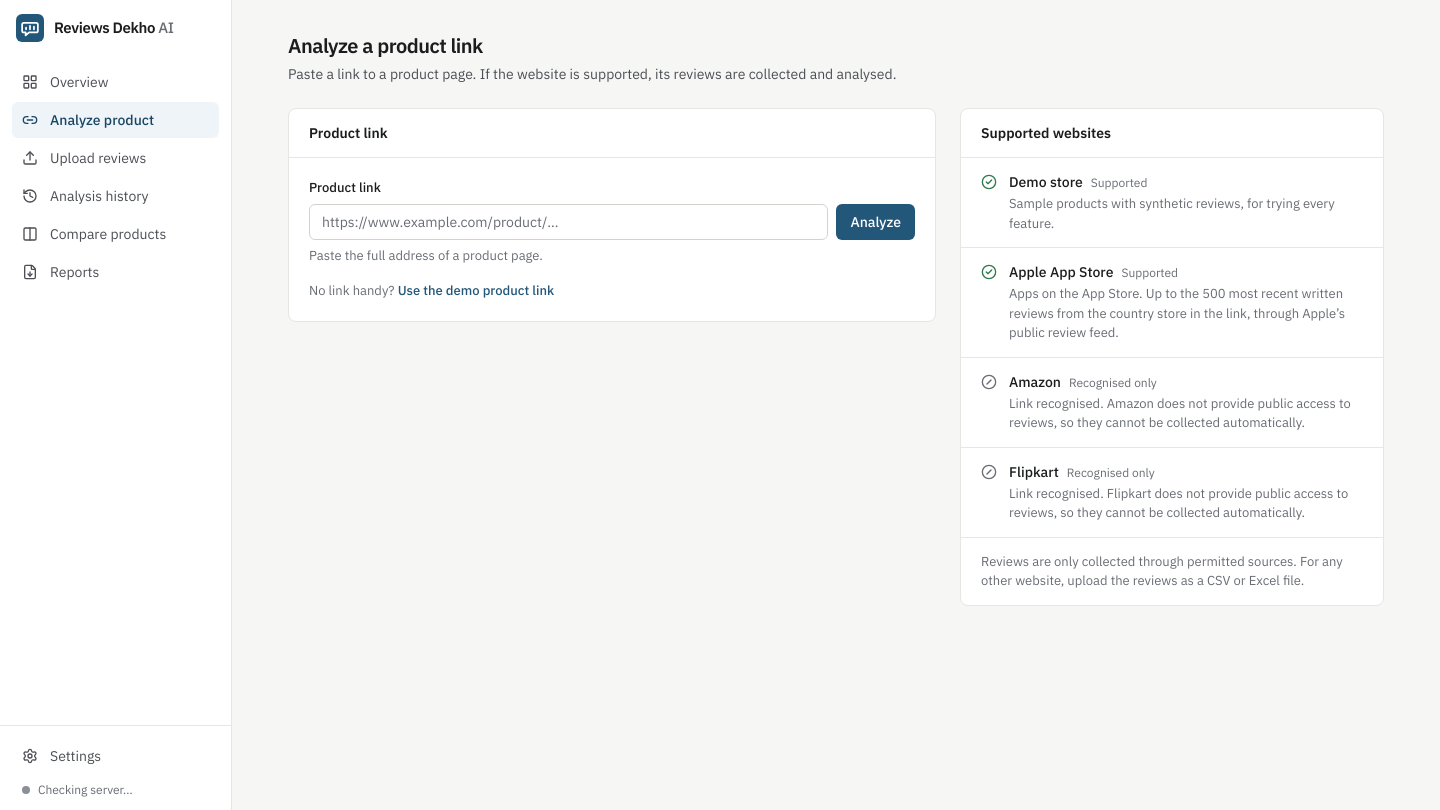
Test: product link form › shows a validation error for invalid input
Step 1. Type "hello world" into the field labelled "Product link" → {"x": 569, "y": 222}, box [309,204,828,240]
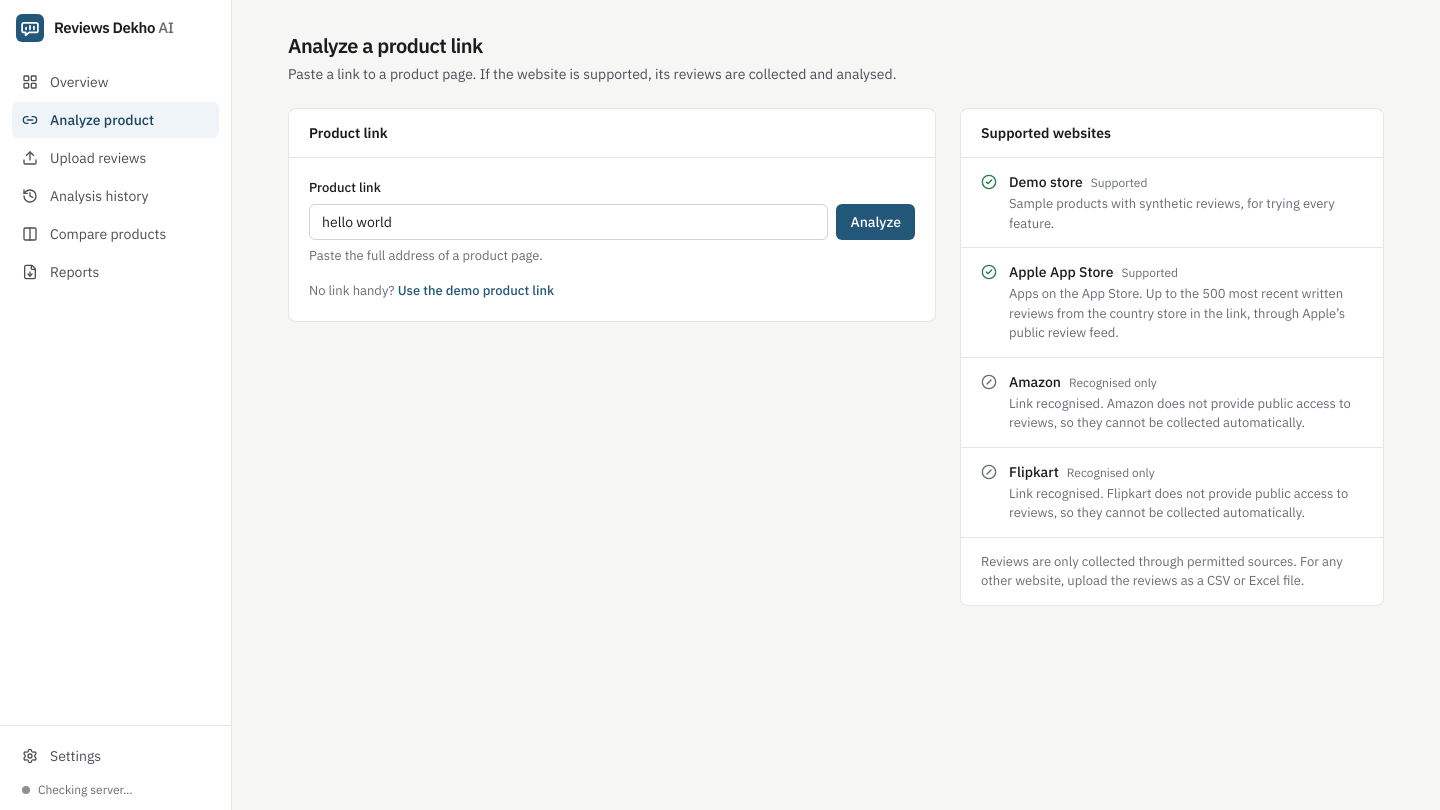
Step 2. Click the button "Analyze" → {"x": 876, "y": 222}, box [836,204,915,240]
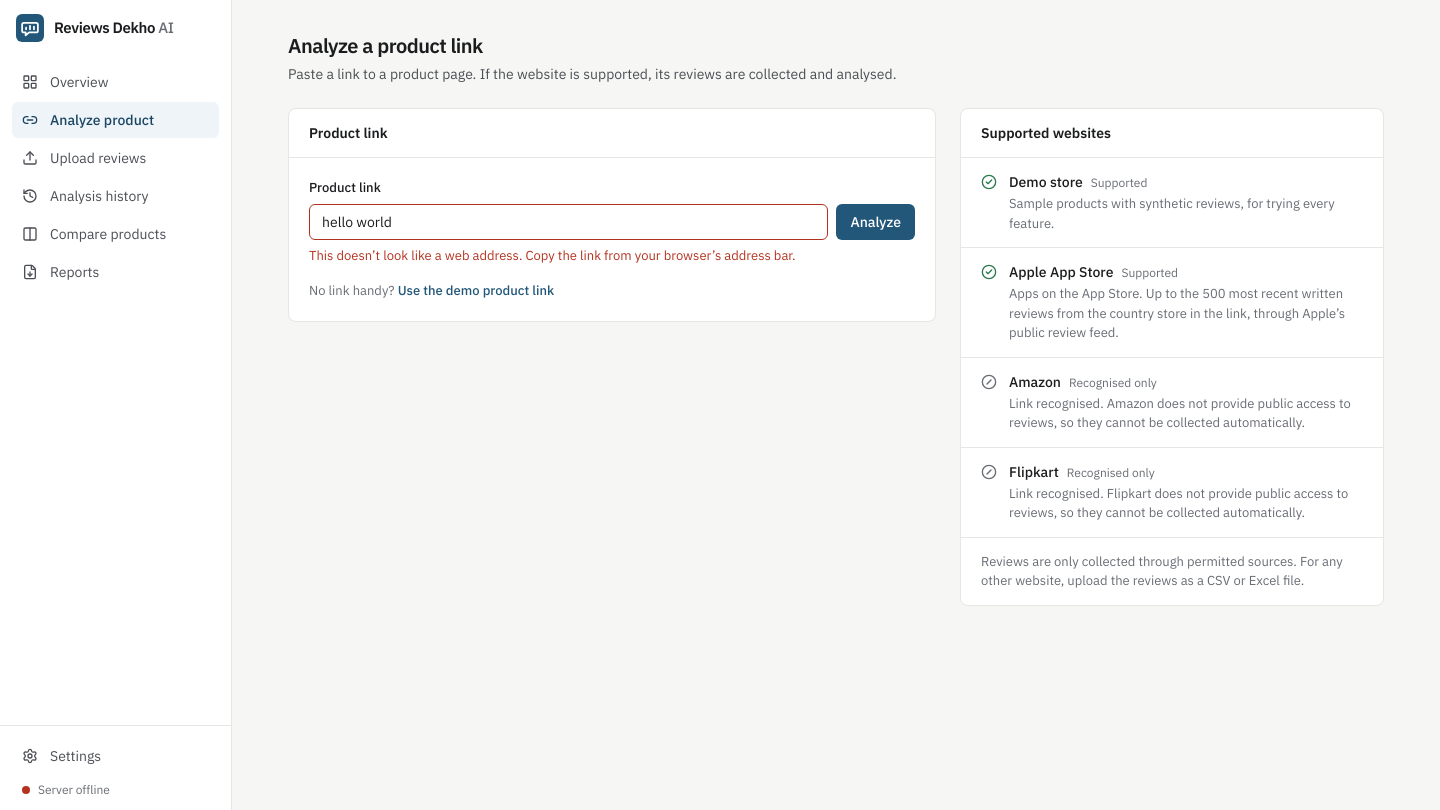
Result: the text "doesn’t look like a web address" is shown at [309,246,796,264]
